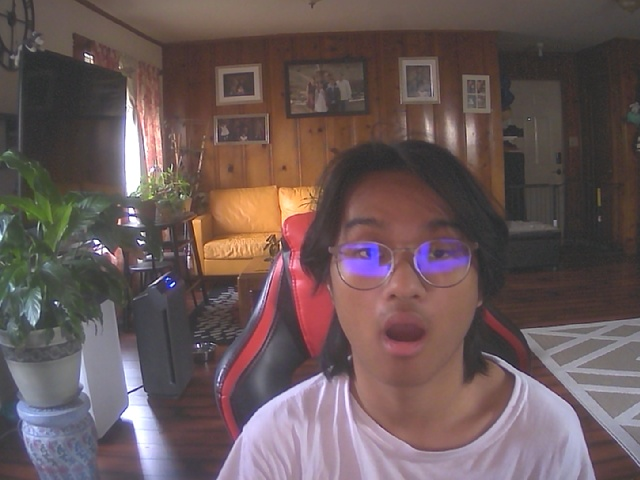fear: (324, 166, 485, 389)
